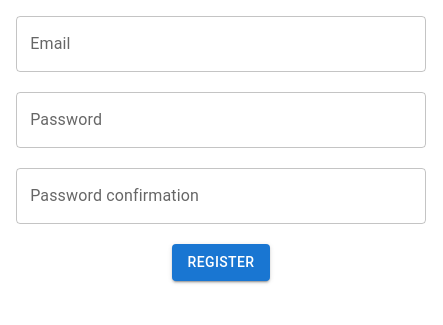
Test: RegisterForm › displays validation error message for password confirmation
Type "password" into the password field labelled "Password".
click(221, 120); type("password")  # box [16,92,426,148]
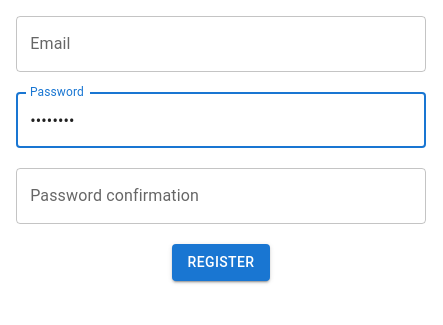
Type "not the same" into the password field labelled "Password confirmation".
click(221, 196); type("not the same")  # box [16,168,426,224]
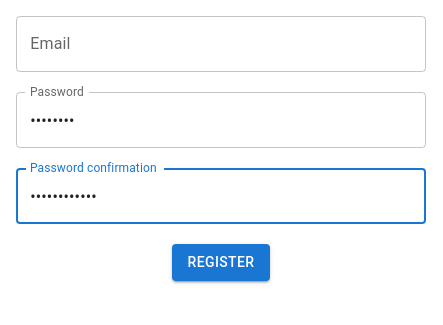
Click the button "Register".
click(221, 262)  # box [172,244,270,280]
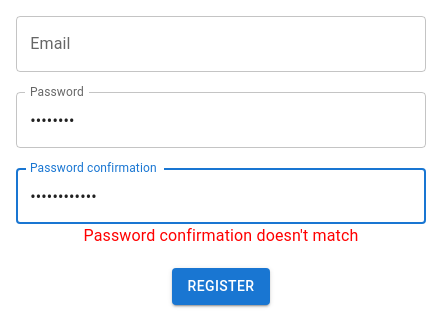
Check: the text "Password confirmation doesn't match" is shown, box [84,226,358,245]
